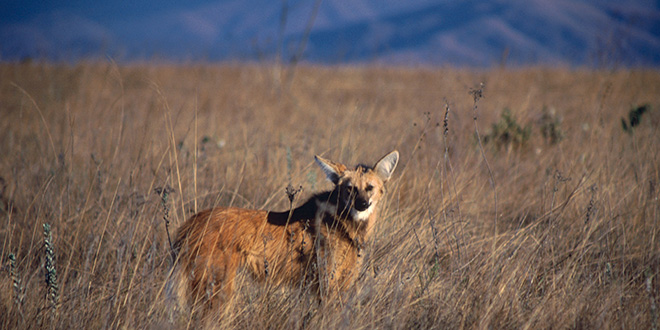LoboGuara: (170, 148, 406, 312)
